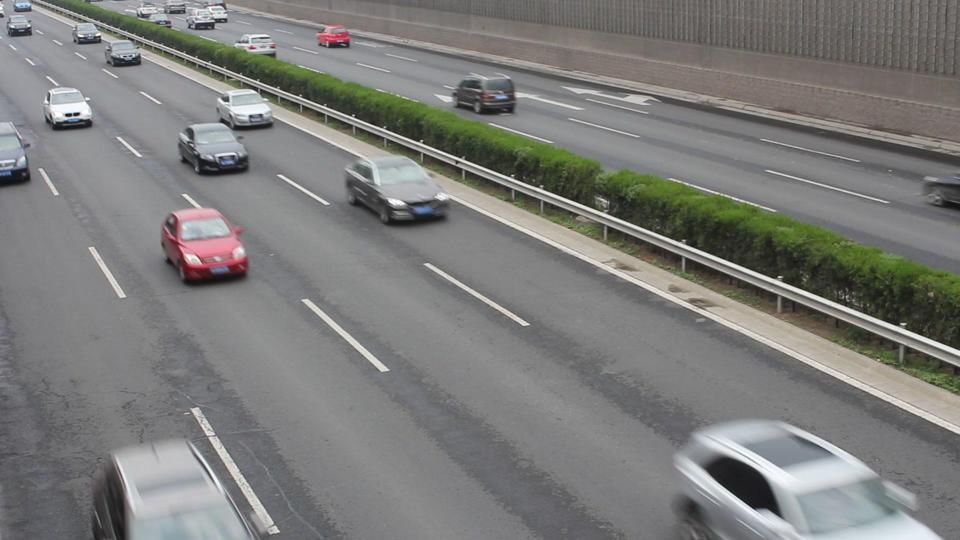Car: (678, 420, 922, 540), (97, 441, 249, 540), (344, 155, 448, 223), (162, 207, 248, 281), (177, 122, 249, 175), (452, 72, 514, 113), (214, 89, 270, 127), (45, 86, 91, 125), (1, 124, 31, 183), (235, 32, 274, 57), (104, 41, 139, 65), (317, 23, 348, 46)
